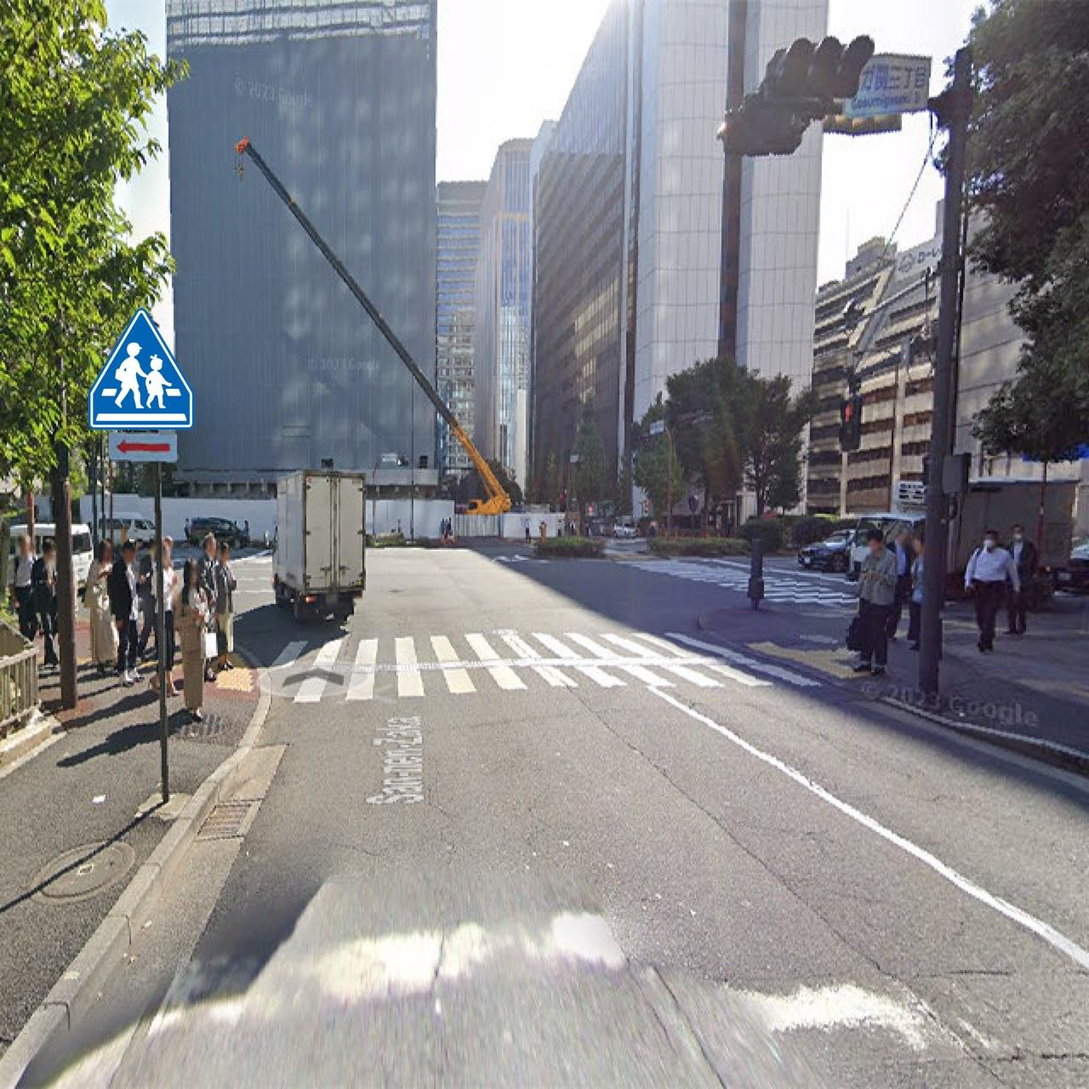cone: (0, 213, 189, 643)
